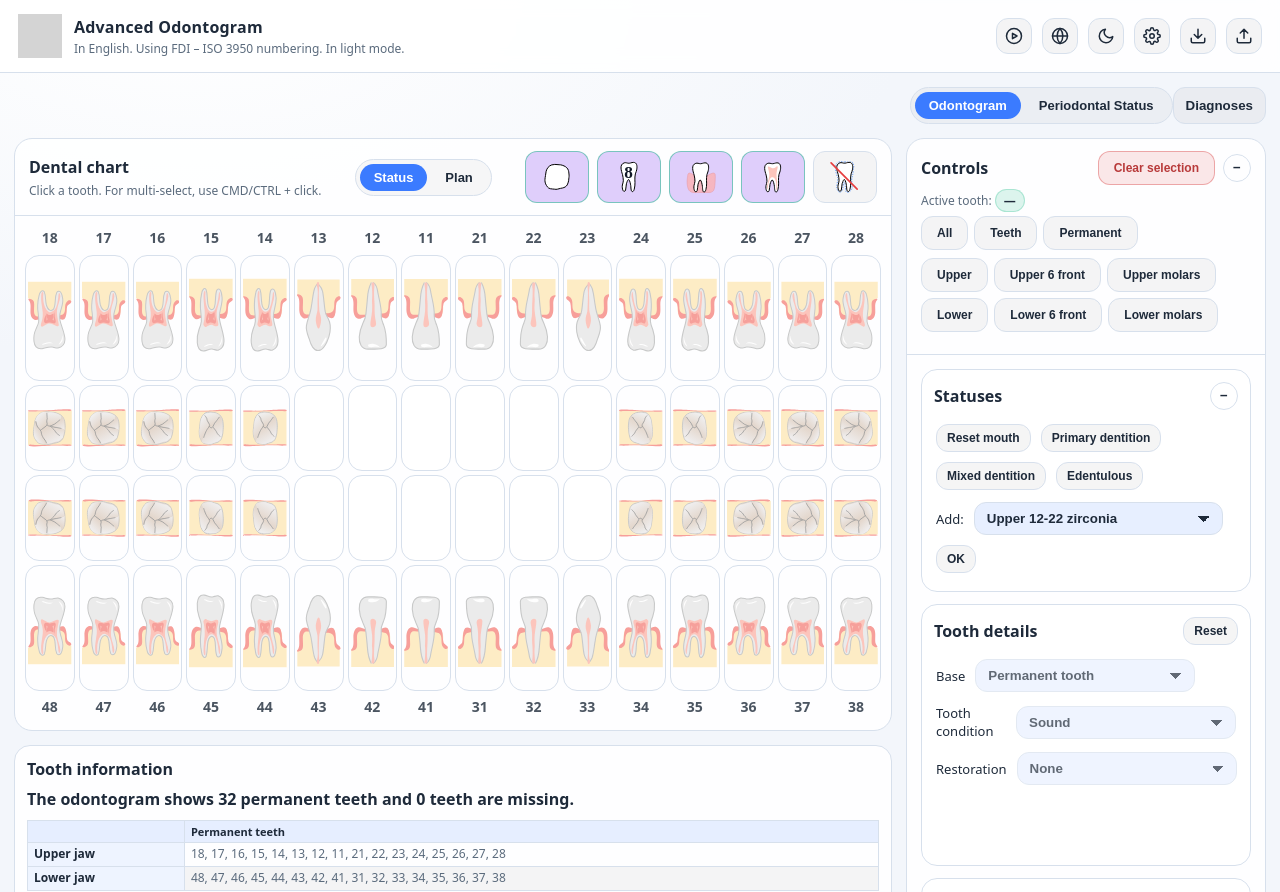
Test case: Popups interaction characterization › A. Zoom Popover actions › Reset button resets tooth state and closes zoom popover
The width and height of the screenshot is (1280, 892).
Press the mouse on the option named "11" at (426, 318), box [401, 255, 451, 381]
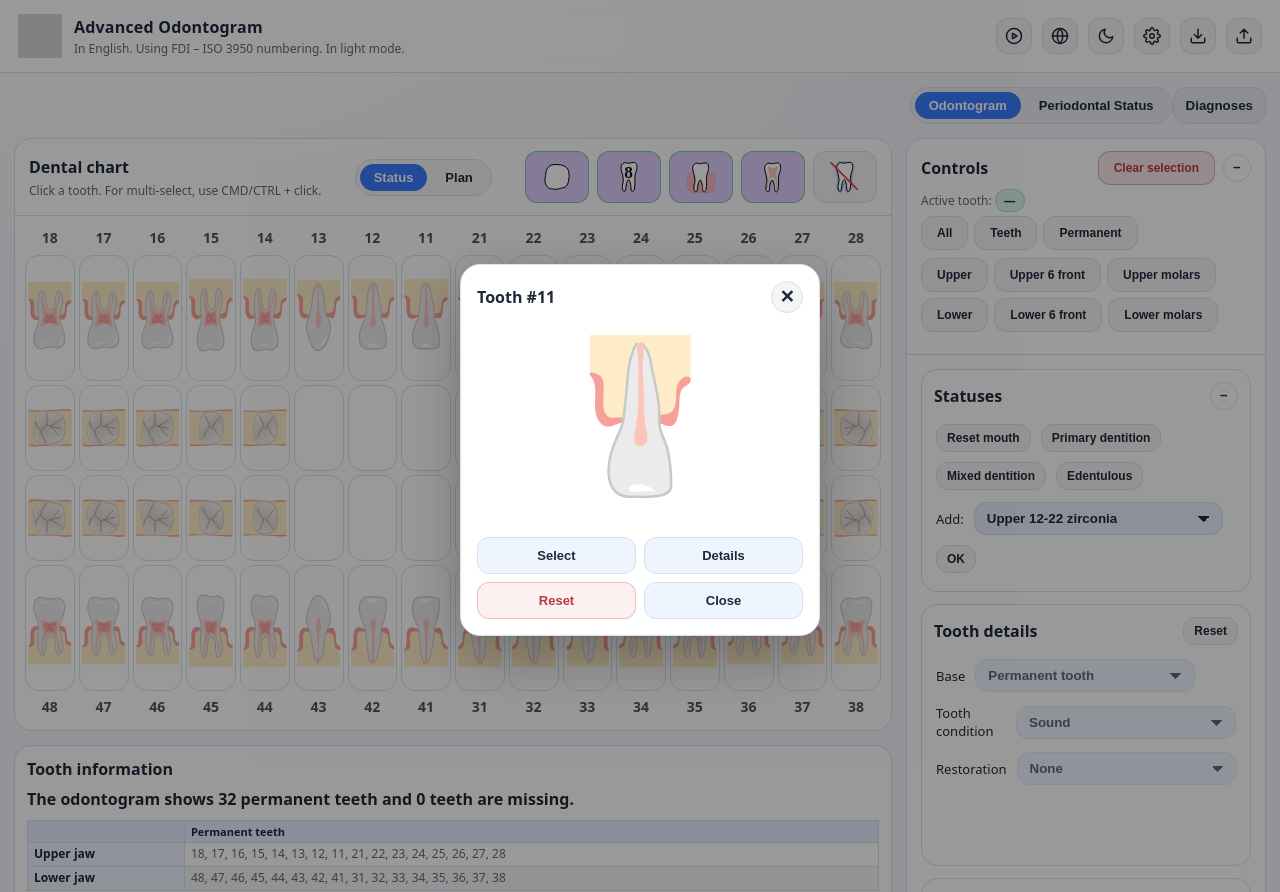
Check: the button with class "danger" is shown
Click the button with class "danger" at (556, 600), box [477, 582, 636, 619]
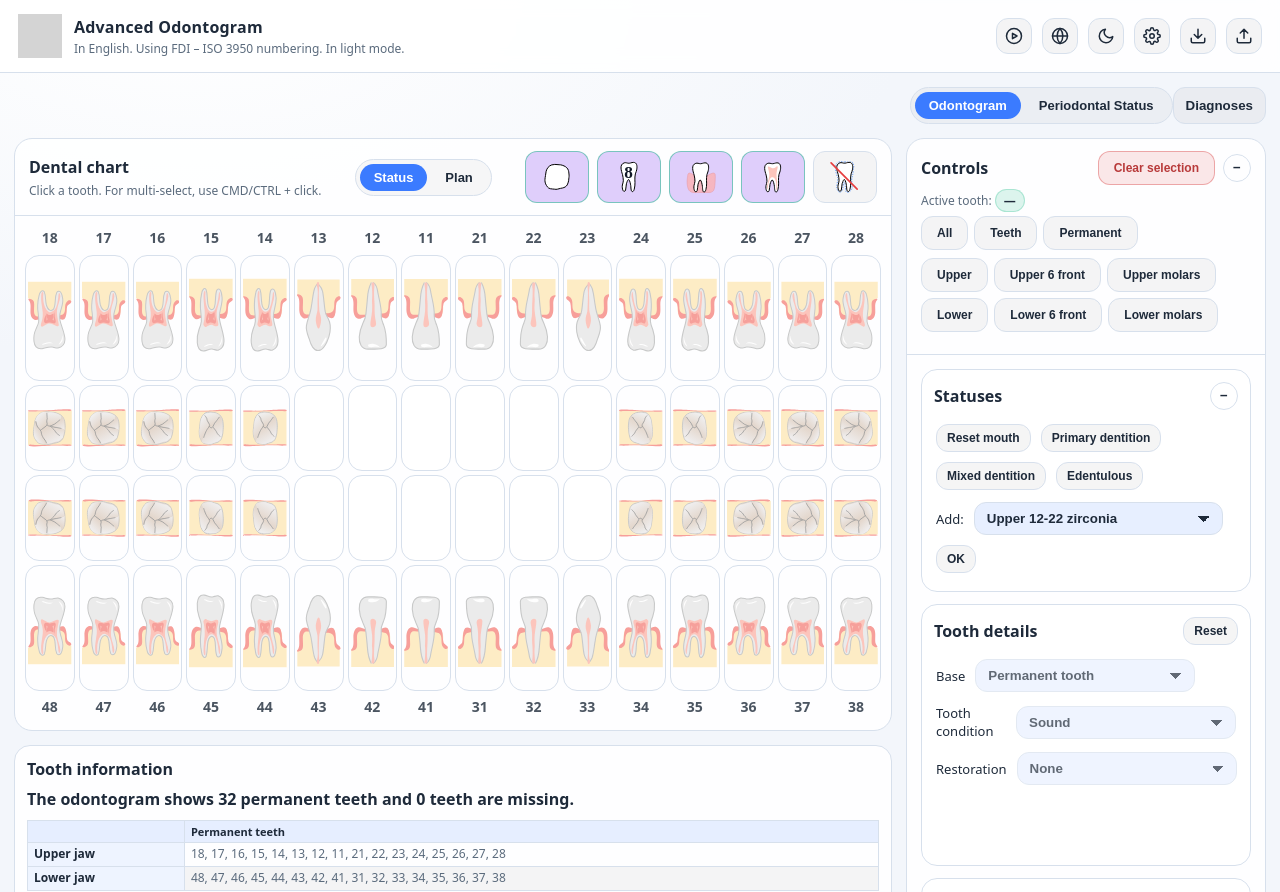
Check: the element with class "odon-zoom-popover" is gone
